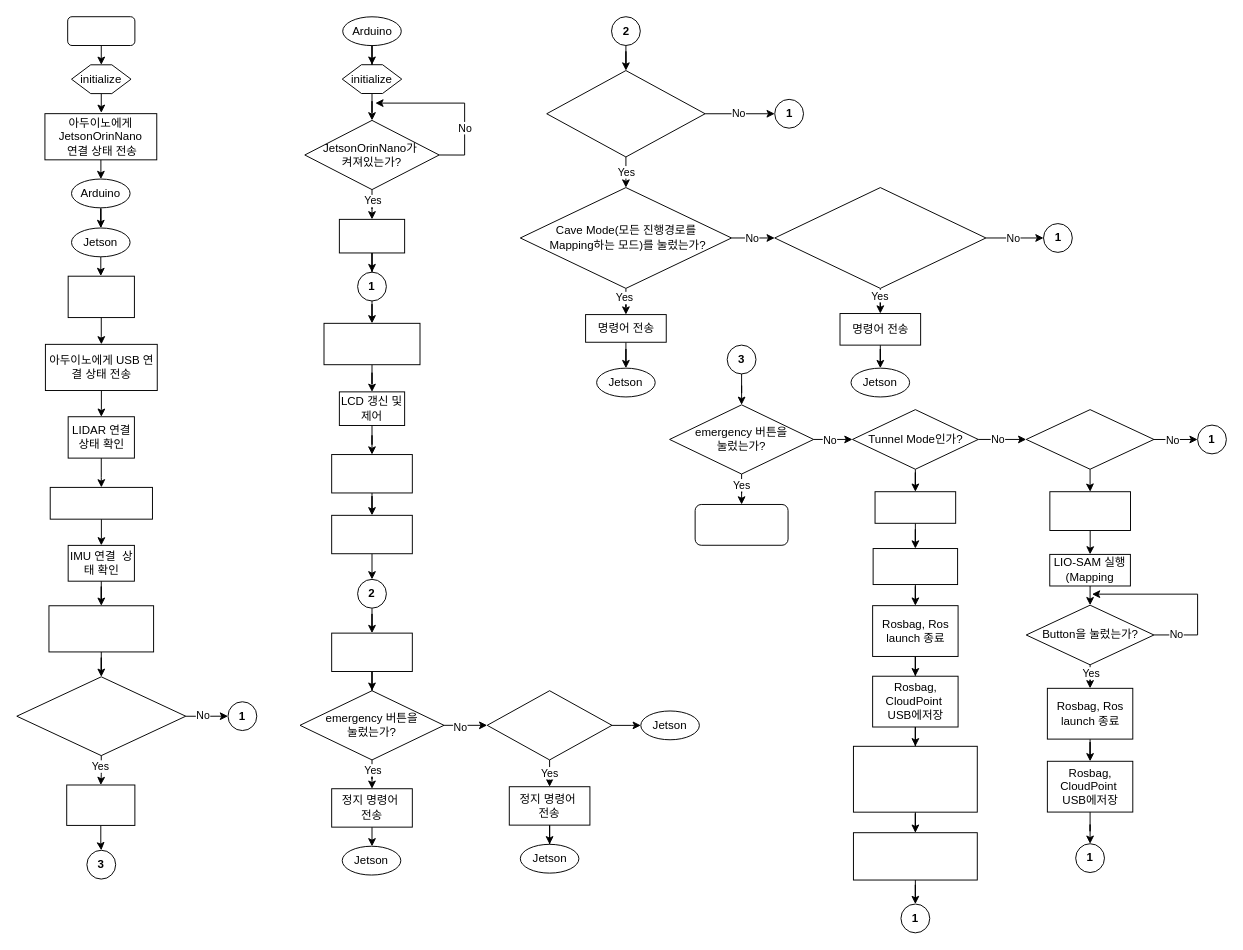
Some shapes in this 1243 by 950 pixel diagram are drawn without their labels. The shapes that lost their labels are listed below. From the top down, each one's centre as x and y in pixels, then its label:
At pixel 101 31: "start".
At pixel 625 113: "USB, IMU, Lidar가 활성화 되어 있는가?".
At pixel 371 235: "LCD 갱신".
At pixel 880 237: "Tunnel Mode(측정 장비를 90도로 회전 후, 2D 단면을 Scan하는 모드 )를 눌렀는가?".
At pixel 100 296: "USB 연결 상태 확인".
At pixel 371 343: "Joystick, Button, Battery 상태 확인".
At pixel 1089 439: "Cave Mode인가?".
At pixel 371 473: "XM430(모터) 갱신 및 제어".
At pixel 100 502: "아두이노에게 Lidar 연결 상태 전송".
At pixel 915 507: "XM430 90도 회전".
At pixel 1089 510: "XM430 사용자 지정 각도 회전".
At pixel 371 534: "Serial 데이터 처리".
At pixel 741 524: "JetsonOrinNano종료".
At pixel 915 566: "5초간 LIO-SAM 실행(Mapping)".
At pixel 101 628: "아두이노에게 IMU연결 상태 전송".
At pixel 371 652: "Serial 데이터 전송".
At pixel 101 716: "시리얼 포트에서 수신된 데이터가 있는가?".
At pixel 549 725: "Battery가 70% 이하인가?".
At pixel 914 778: "3D 포인트 클라우드를 주어진 평면의 법선 벡터에 투영하여 2D 평면에 XY 좌표로 변환".
At pixel 100 804: "수신 데이터 처리".
At pixel 914 856: "2D 이미지, DXF파일을 USB 저장, 면적 출력".
